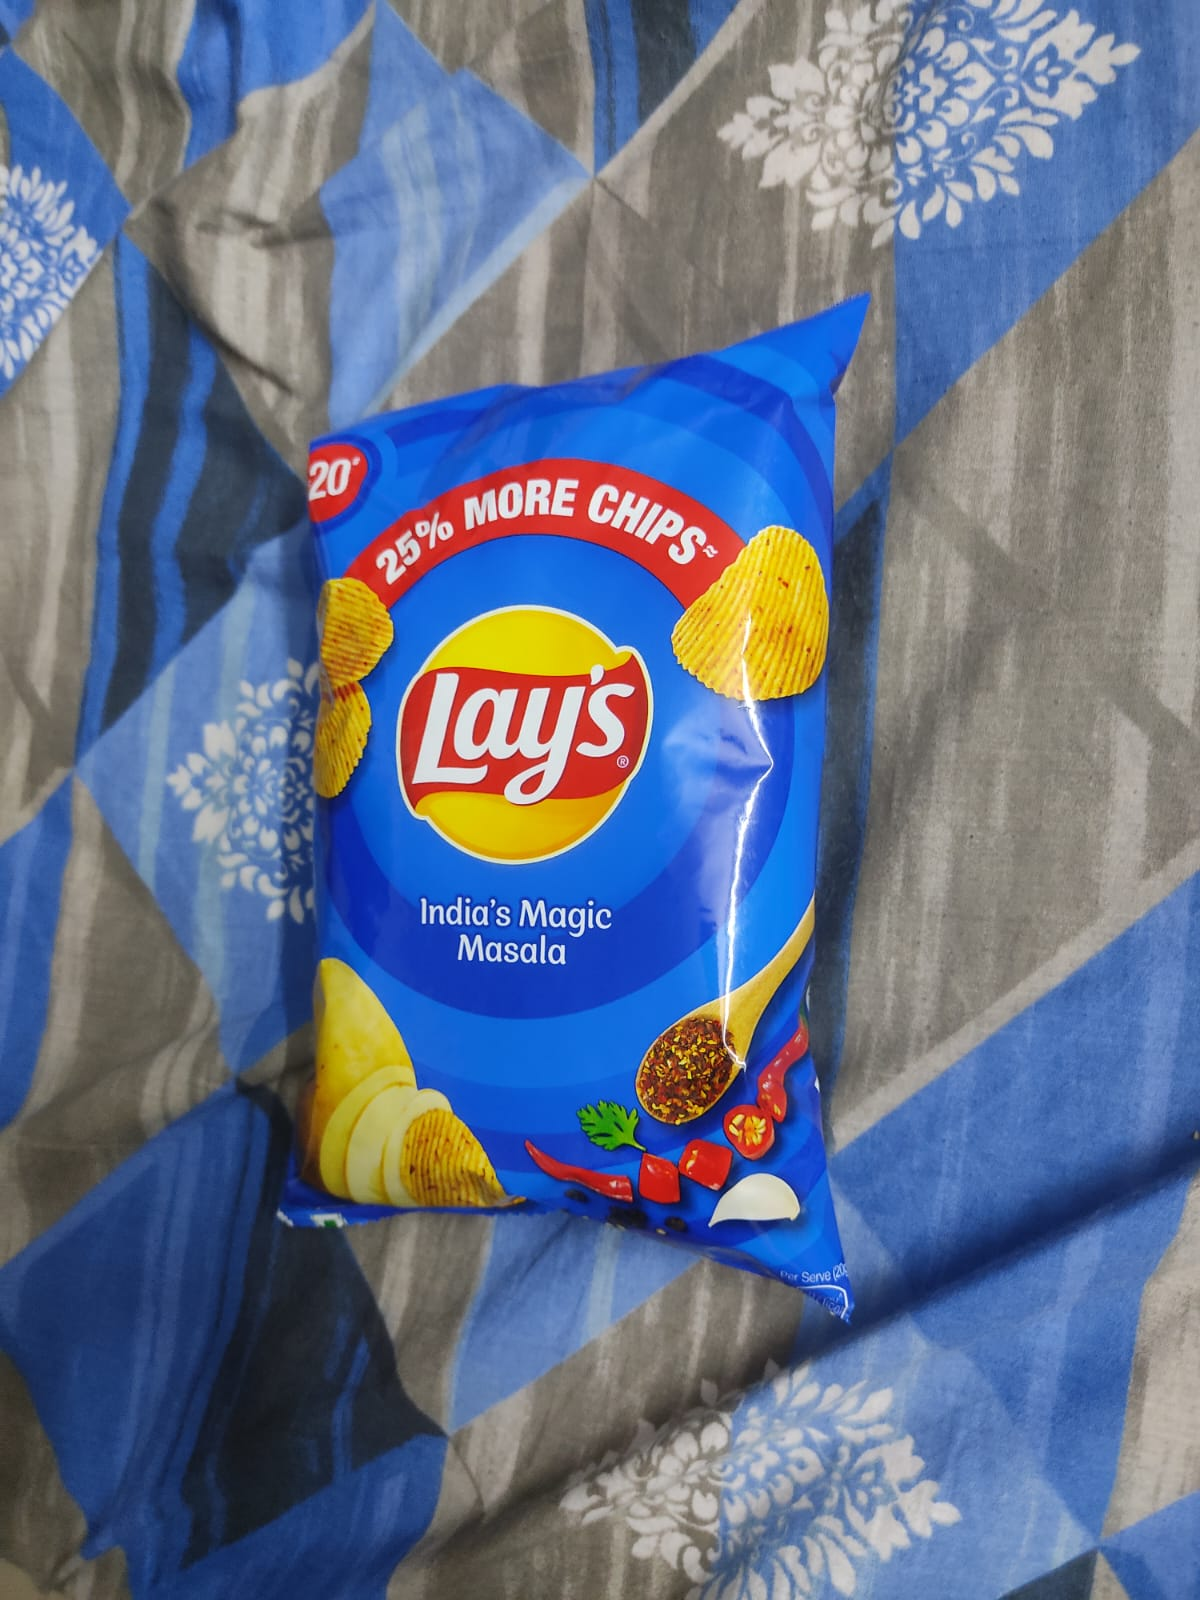020_BlueLays: (292, 379, 847, 1266)
